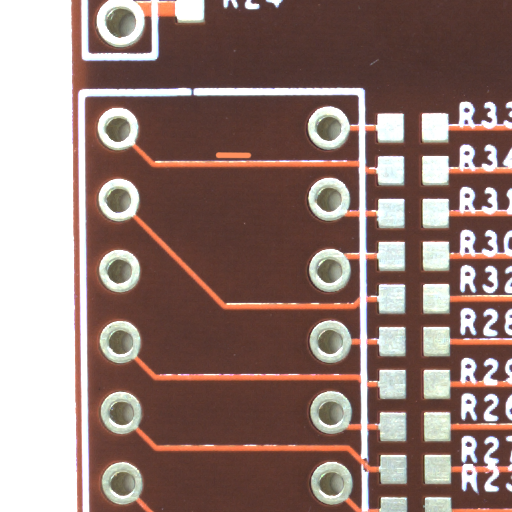Spurious_copper: (232, 155, 272, 164)
